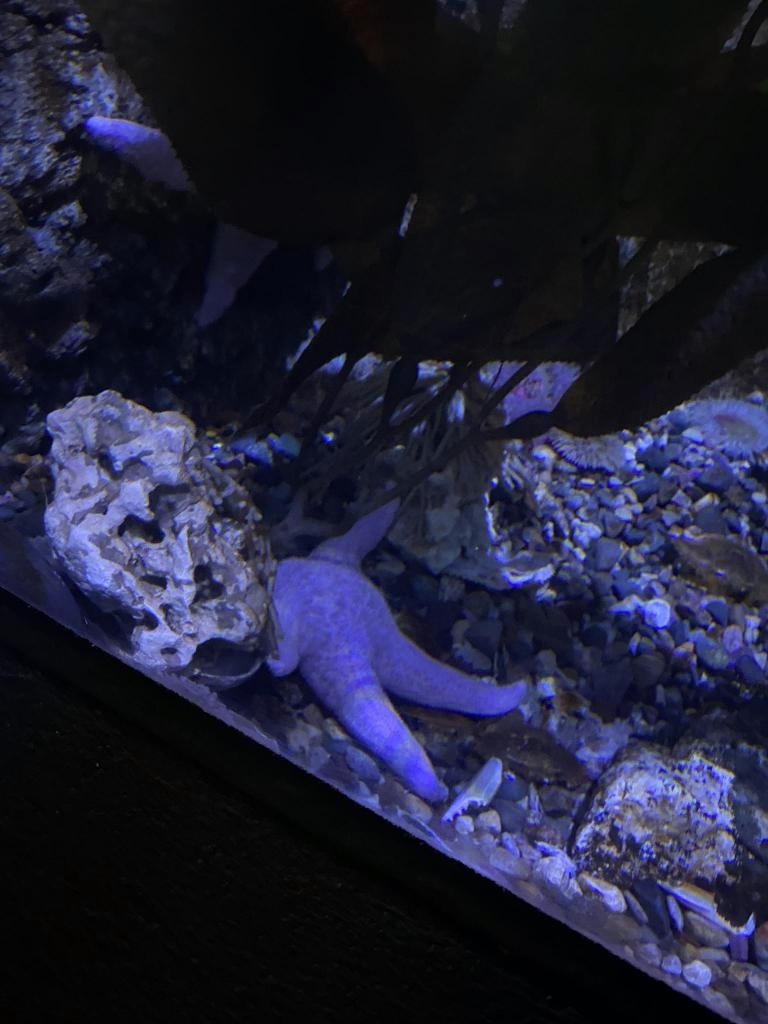starfish: (266, 494, 530, 806)
